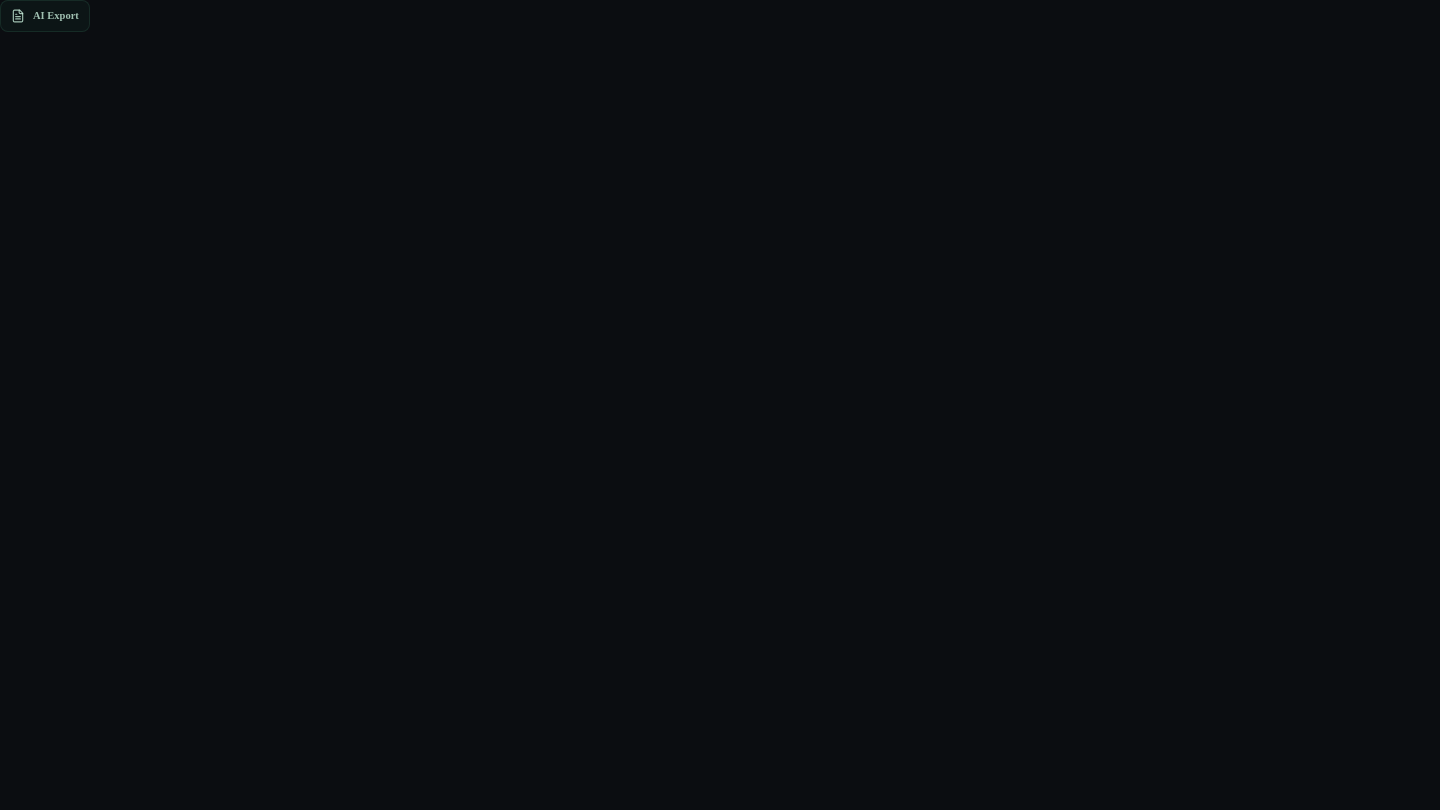
Test: single-file AI export control › saves one Markdown file, suppresses repeated clicks and distinguishes cancellation from saved output
Click the button with test id "library-ai-export-button" at x=45, y=16, box [0,0,90,32]
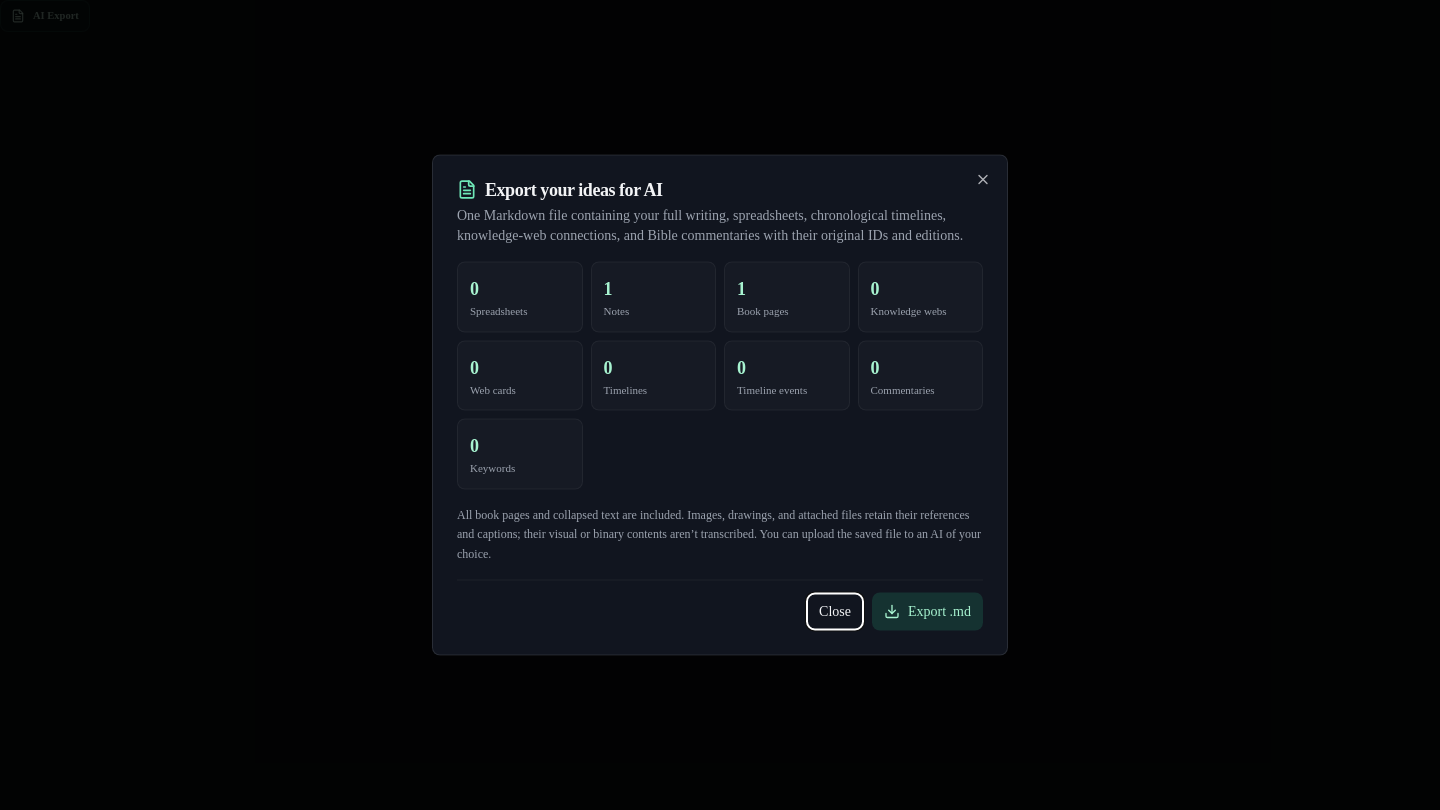
expect the button with test id "ai-export-save" is enabled: met
Click the button with test id "ai-export-save" at x=928, y=612, box [872,592,983,630]
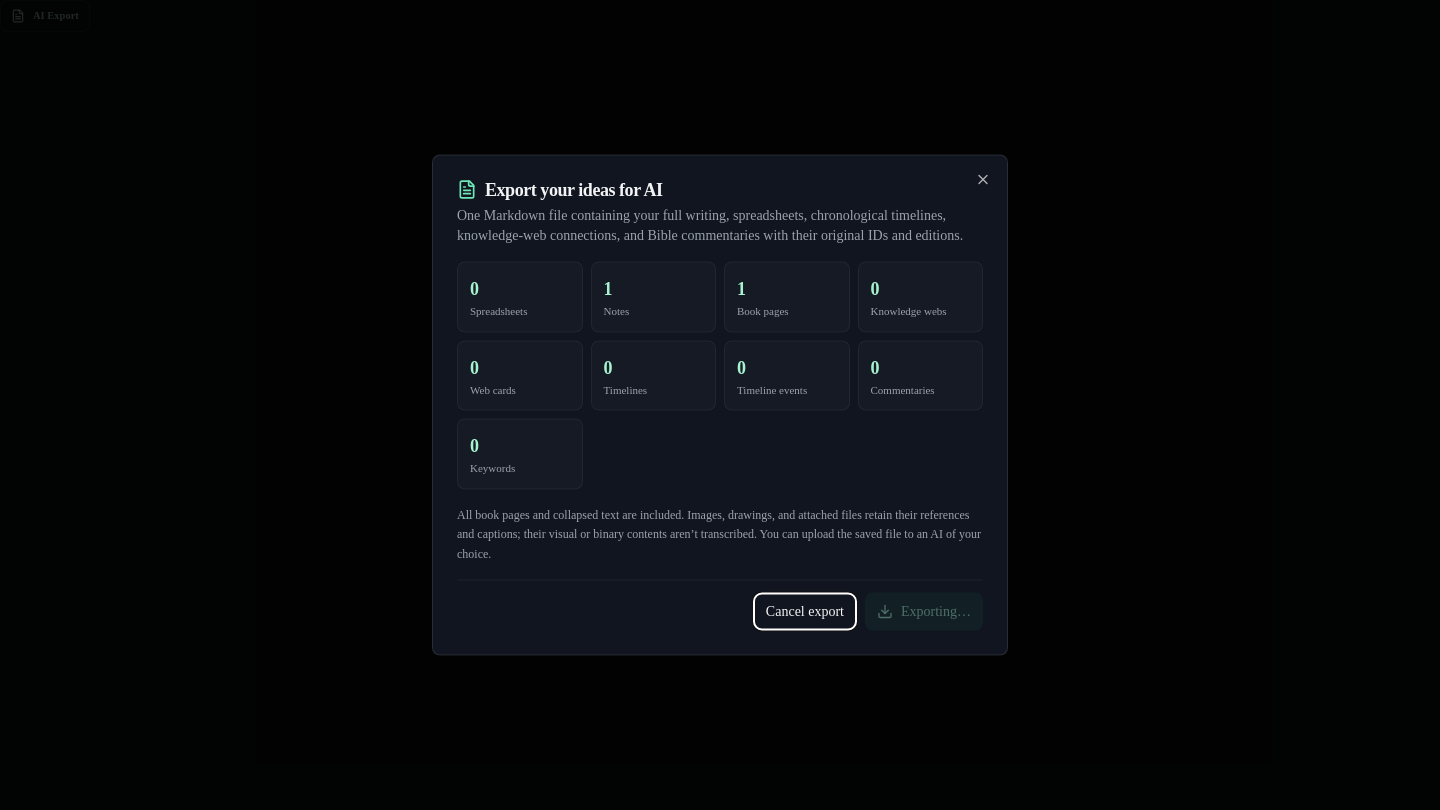
Click the button with test id "ai-export-save" at x=924, y=612, box [865,592,983,630]
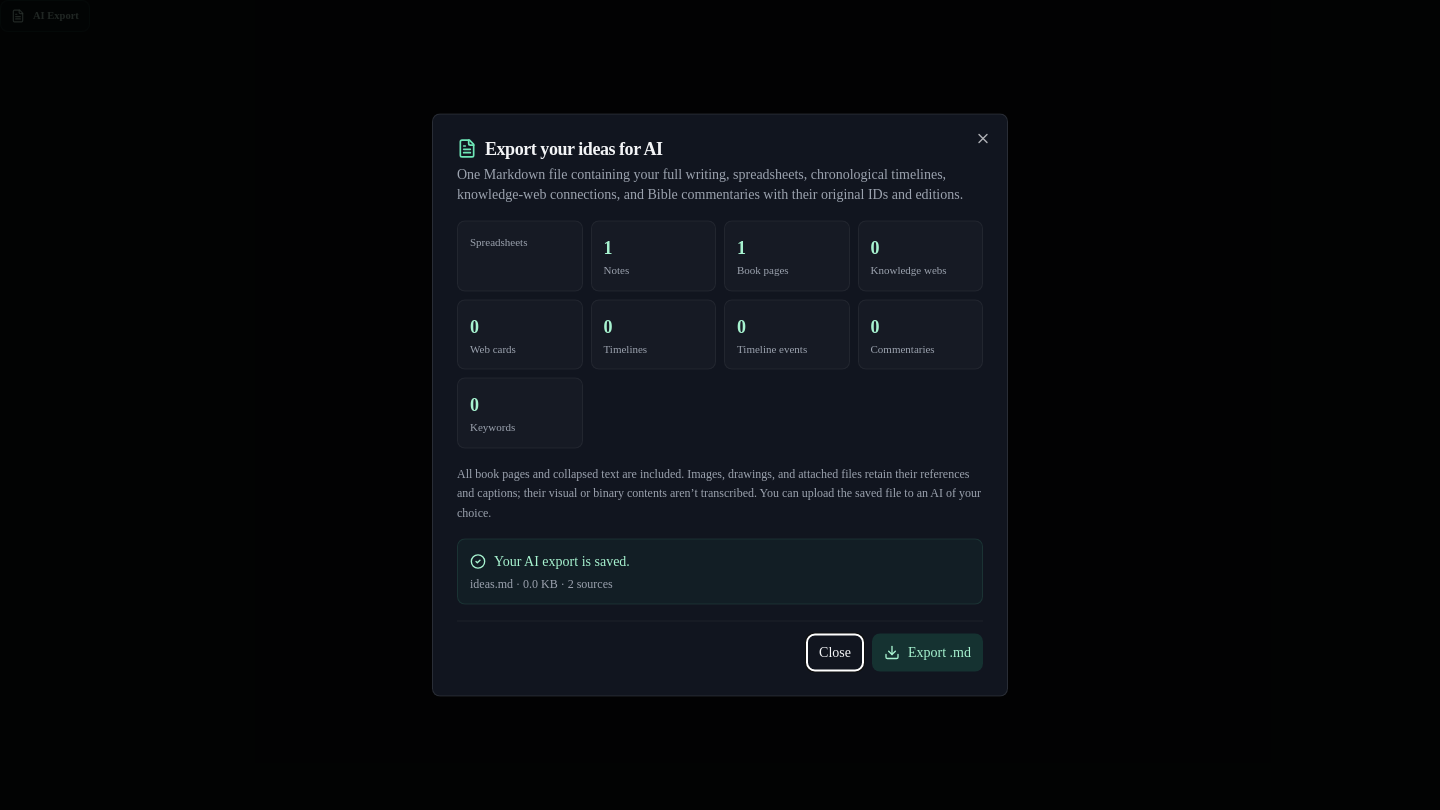
expect the text "Your AI export is saved." is shown: met, box [470,554,630,570]
Click the button with test id "ai-export-save" at x=928, y=652, box [872,634,983,672]
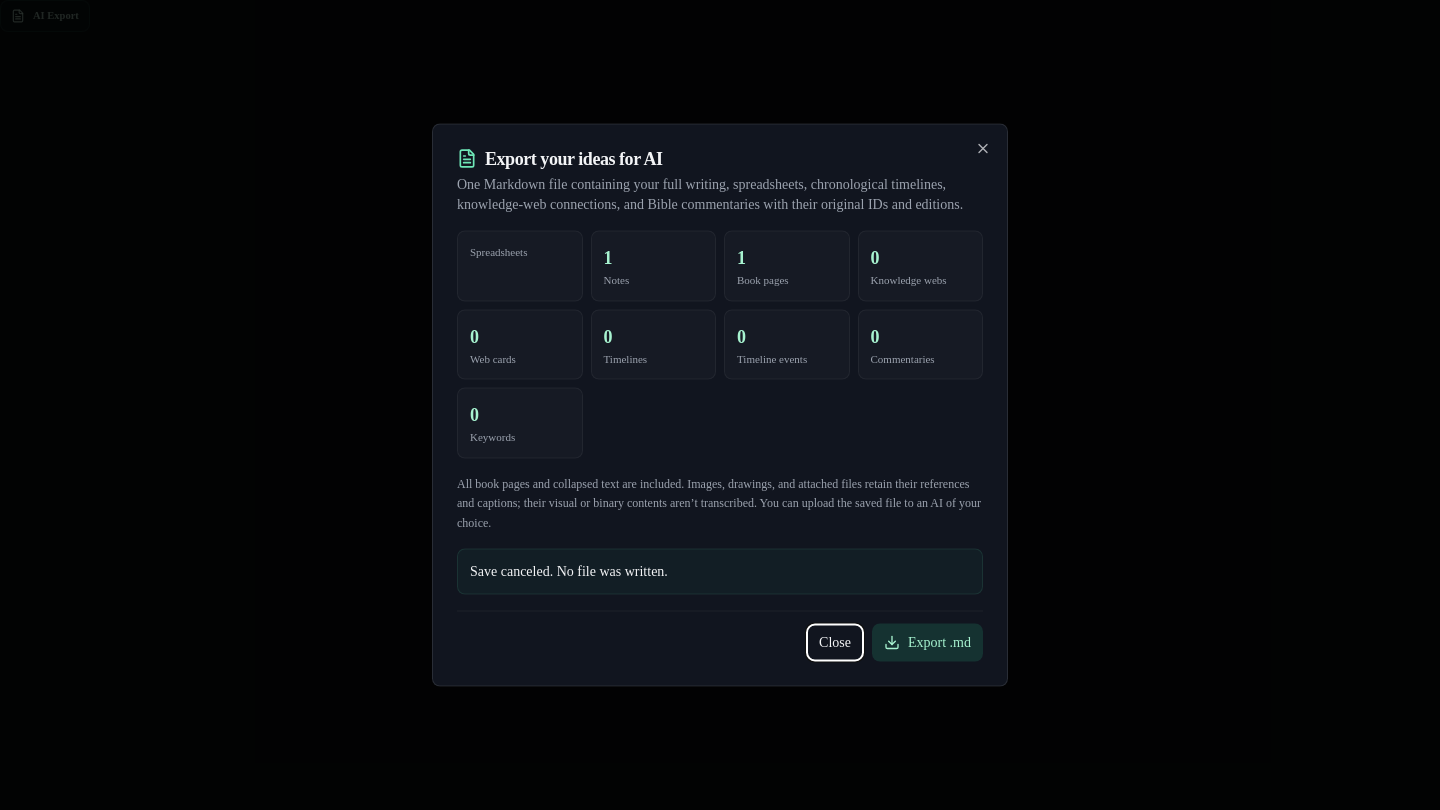
expect the text "Save canceled. No file was written." is shown: met, box [457,548,983,594]
expect the text "Your AI export is saved." is gone: met
